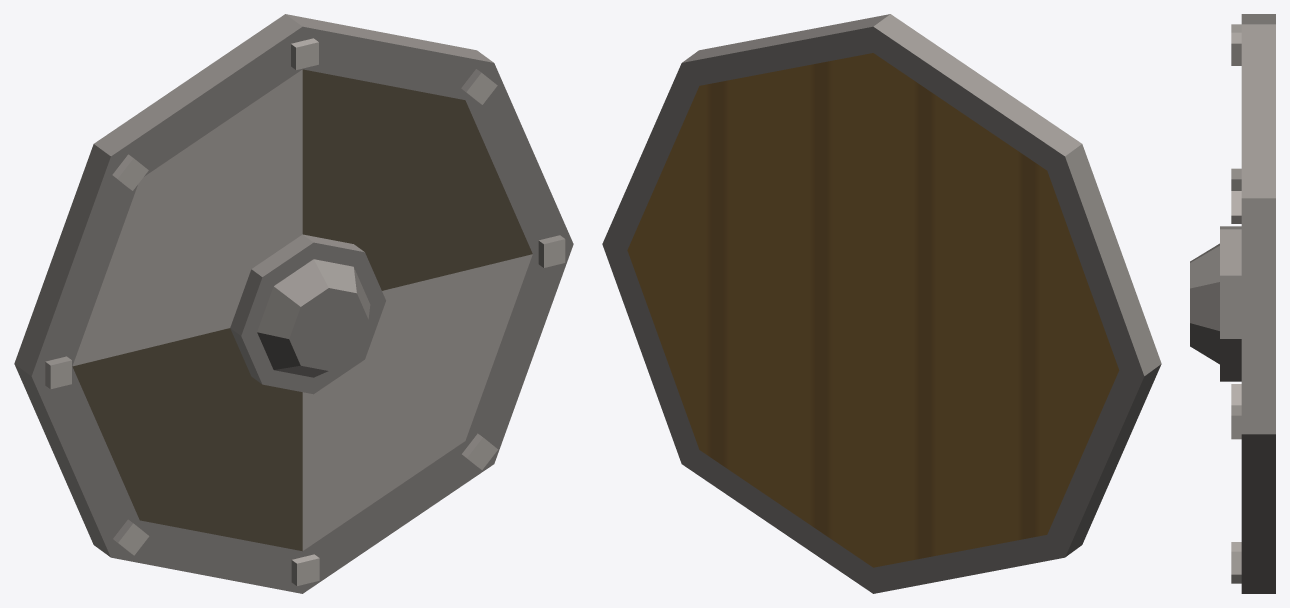
Rendered from SF_Wep_RoundShield_Pattern_011.fbx.
The picture shows the model from 3 angles, left to right: view 1: azimuth 30°, elevation 25°; view 2: azimuth 150°, elevation 25°; view 3: azimuth 270°, elevation 25°; orthographic projection.
Visible parts, largest first — view 1: SF_Wep_RoundShield_Pattern_011; view 2: SF_Wep_RoundShield_Pattern_011; view 3: SF_Wep_RoundShield_Pattern_011.
Part boxes in pixels (x1,y1,x2,y2): SF_Wep_RoundShield_Pattern_011: (14,14,573,593); SF_Wep_RoundShield_Pattern_011: (602,14,1161,593); SF_Wep_RoundShield_Pattern_011: (1190,14,1275,593).
Bounding box in the file's own units: 1.4 × 1.4 × 0.1946.
